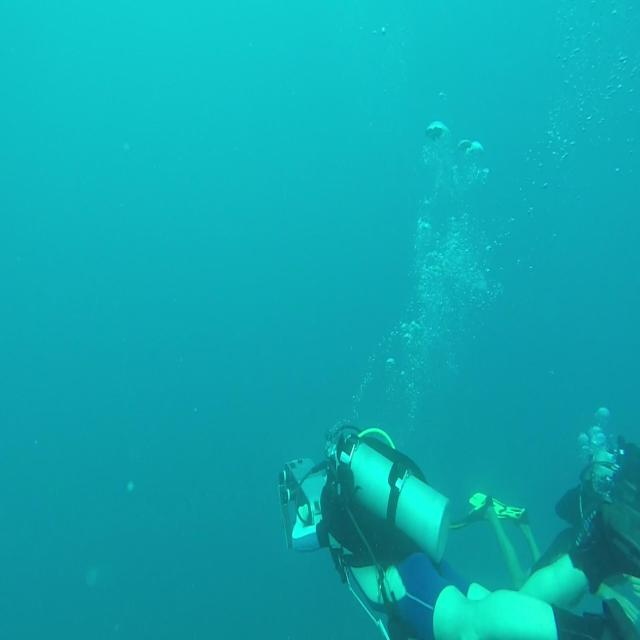human: (278, 419, 638, 638), (458, 420, 640, 558)
